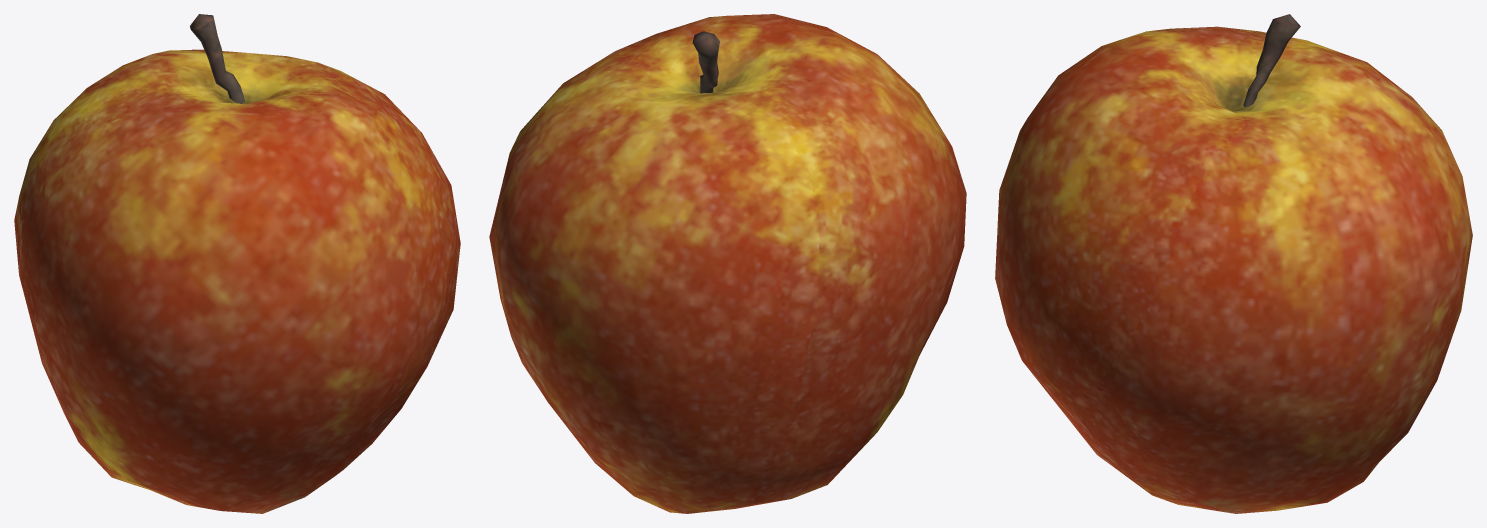
The model's file is Apple.FBX.
3 views of the same model, side by side, from view 1: azimuth 30°, elevation 25°; view 2: azimuth 150°, elevation 25°; view 3: azimuth 270°, elevation 25° (orthographic). The views are drawn at different scales.
Parts seen in each view (by area): view 1: Apple; view 2: Apple; view 3: Apple.
Part boxes in pixels (bbox=[...]): Apple: bbox=[14, 14, 460, 513]; Apple: bbox=[489, 14, 966, 513]; Apple: bbox=[995, 14, 1472, 513].
Bounding box in the file's own units: 9.11 × 10.17 × 9.33.
